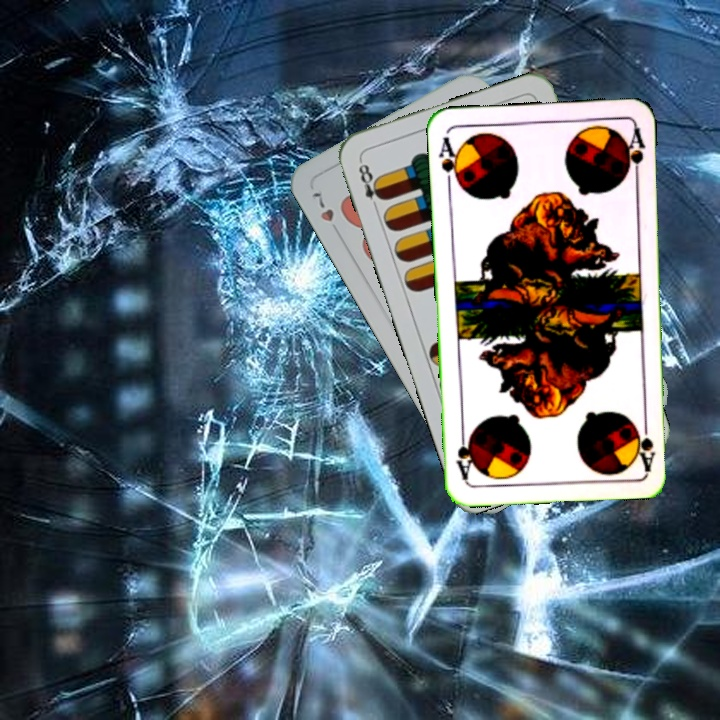E8: (354, 156, 387, 214)
H7: (308, 185, 343, 239)
SA: (435, 133, 464, 191), (635, 413, 658, 472)
